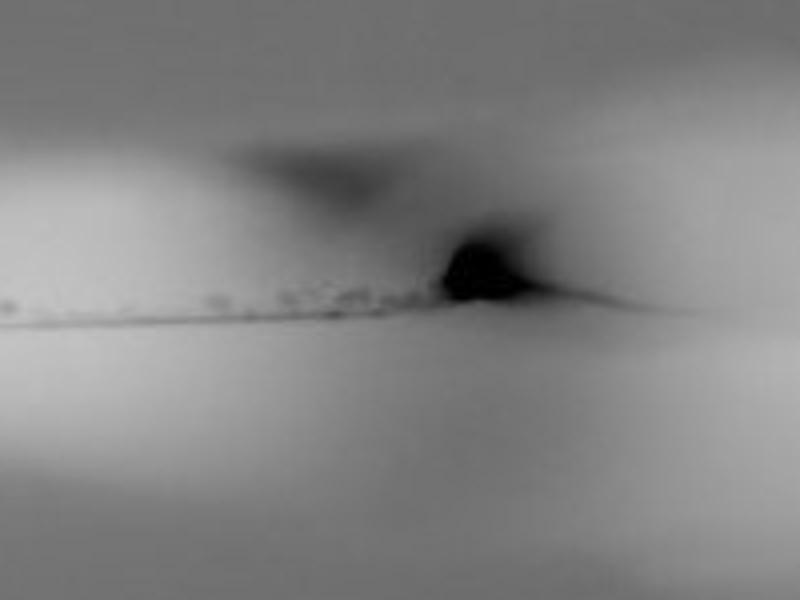defect: (437, 234, 540, 309)
